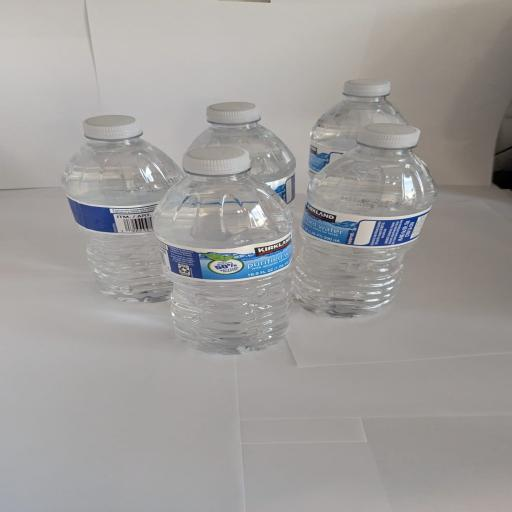waterbottle: (155, 147, 292, 354), (293, 124, 436, 317), (63, 116, 182, 301), (189, 103, 295, 203), (309, 79, 406, 178)
